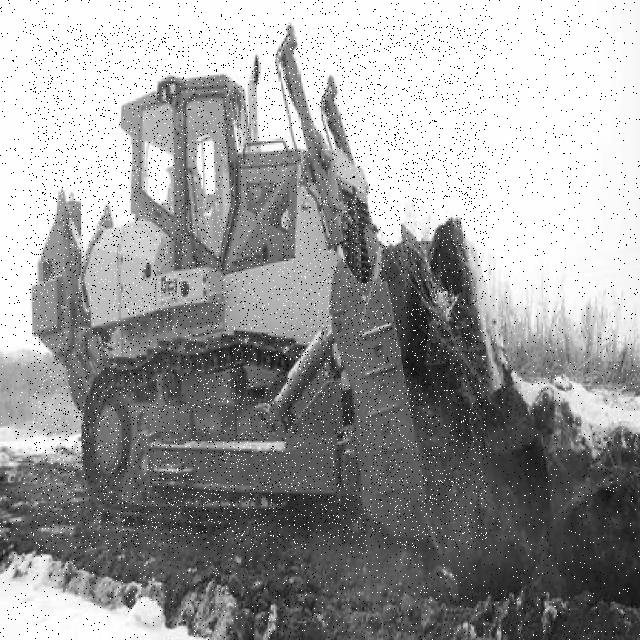Construction Equipment: (30, 24, 487, 549)
